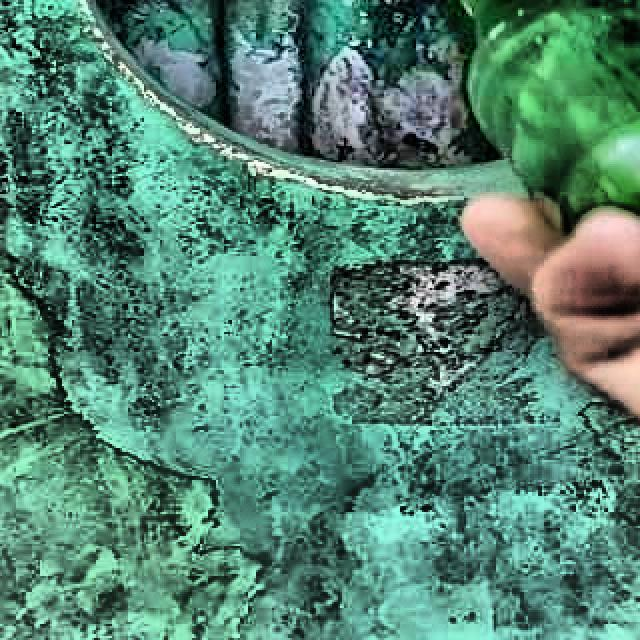glass: (468, 0, 640, 220)
